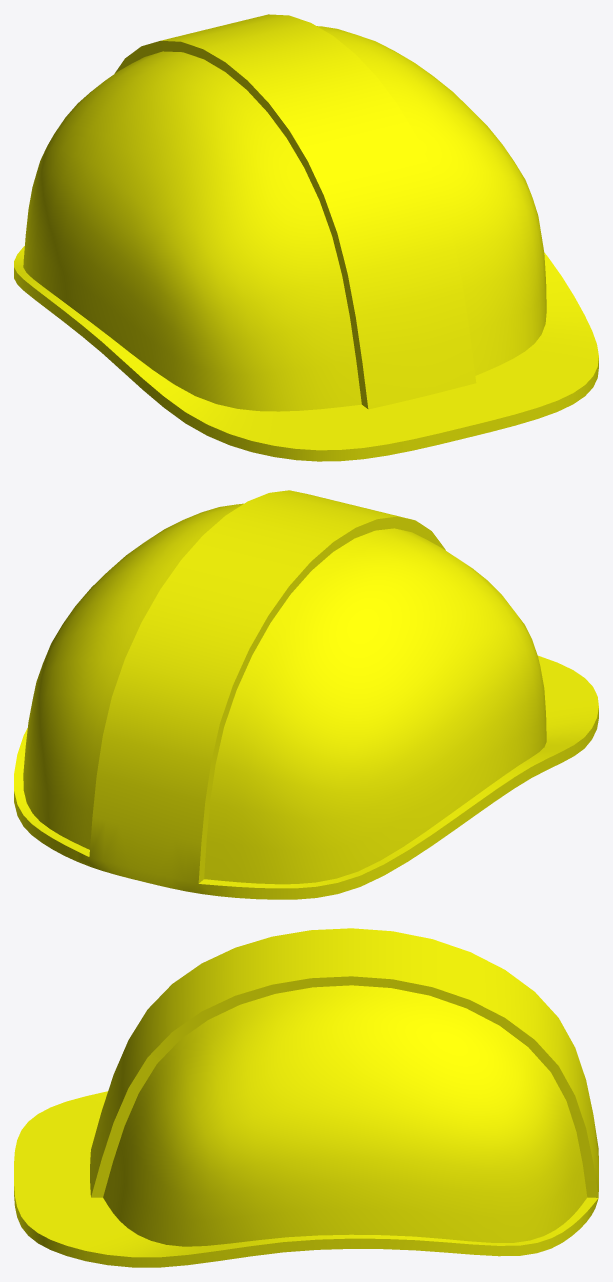
File: helmet.fbx
3 views of the same model, one above another, from view 1: azimuth 30°, elevation 25°; view 2: azimuth 150°, elevation 25°; view 3: azimuth 270°, elevation 25° (orthographic). The views are drawn at different scales.
Parts seen in each view (by area): view 1: Helmet; view 2: Helmet; view 3: Helmet.
Part boxes in pixels (box(x1,y1,x2,y2)): Helmet: box(14, 14, 598, 461); Helmet: box(14, 490, 598, 899); Helmet: box(14, 928, 598, 1267).
Bounding box in the file's own units: 254 × 143 × 327.
Materials: 1 (1 with a texture image).
